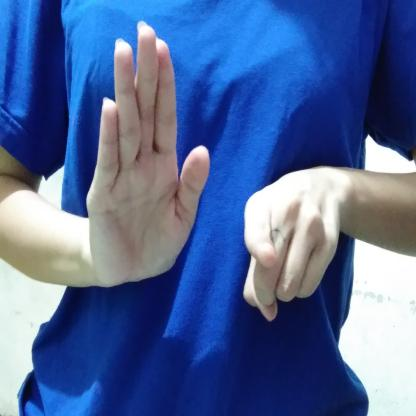stop: (74, 14, 352, 328)
